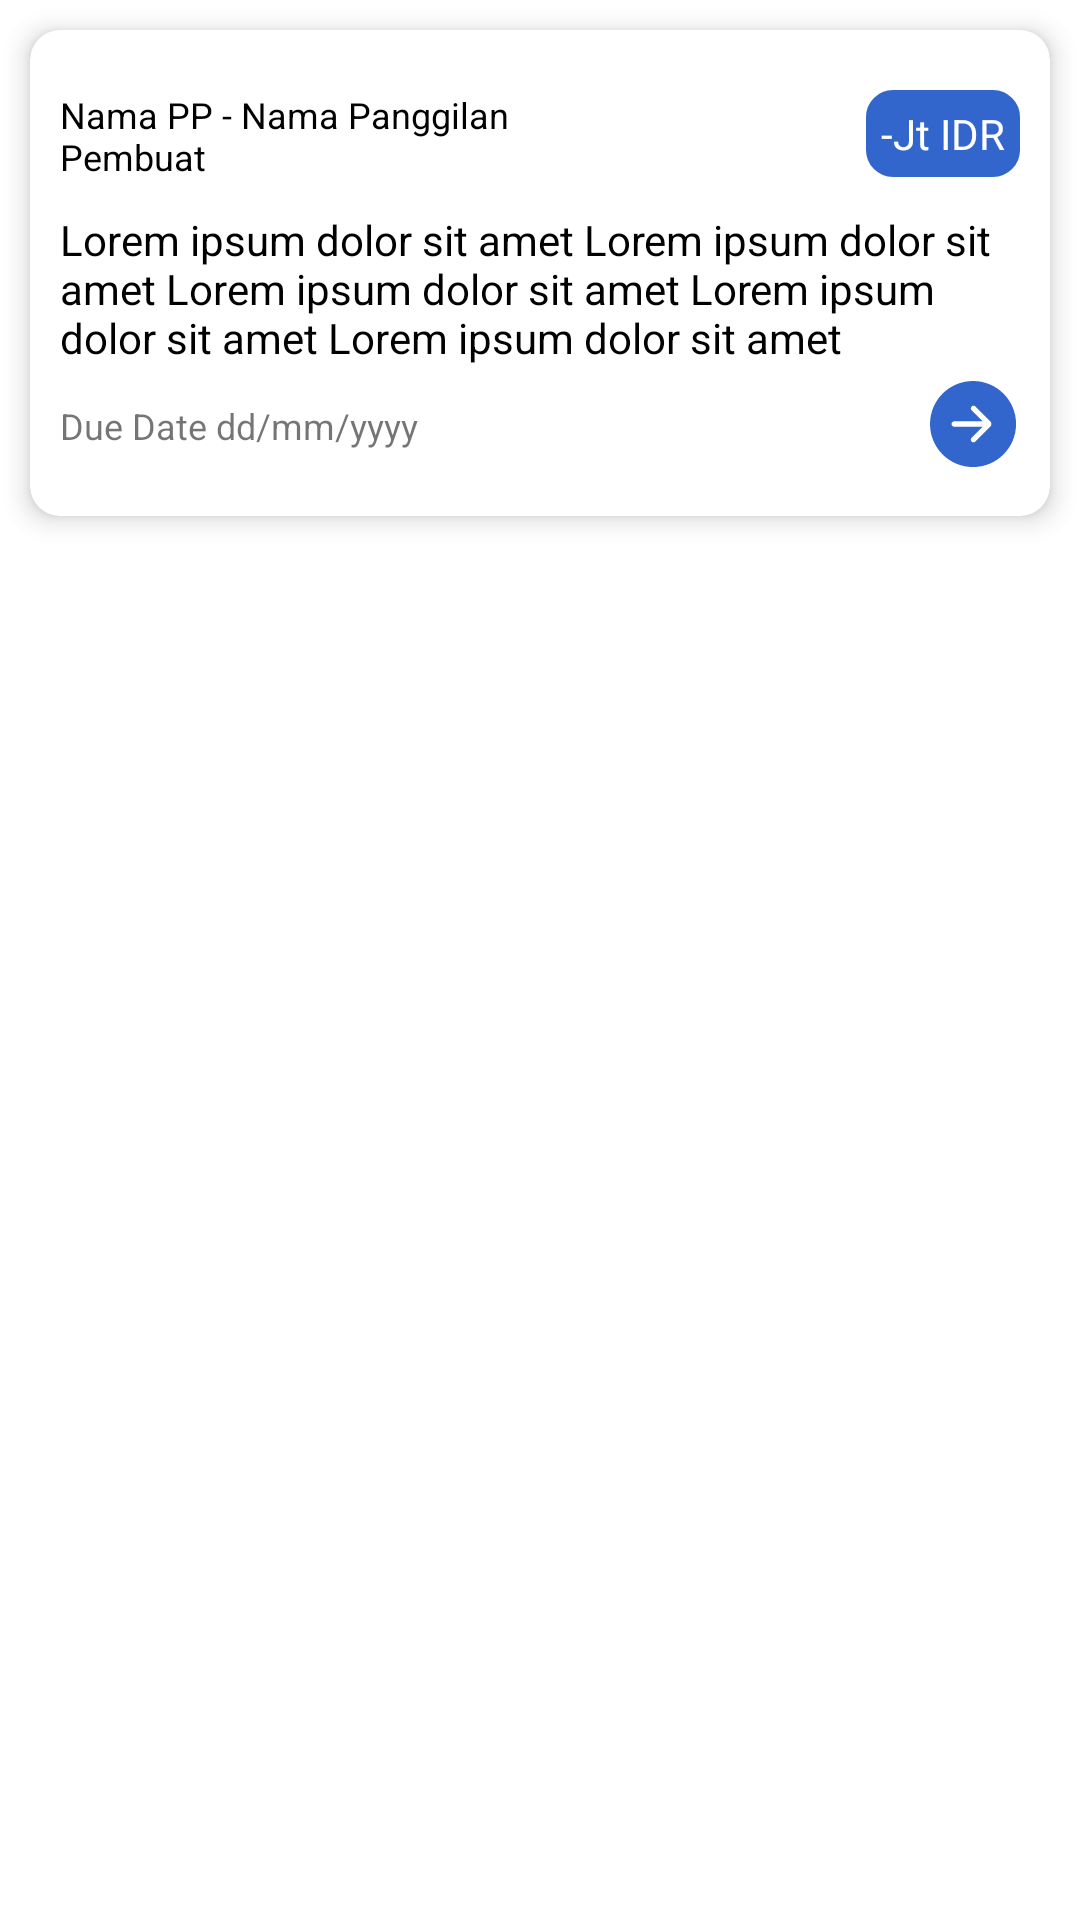

Icons on this 1080px×1920px Android screen, each with the point to tap as (x,y):
arrow right: (973,424)
